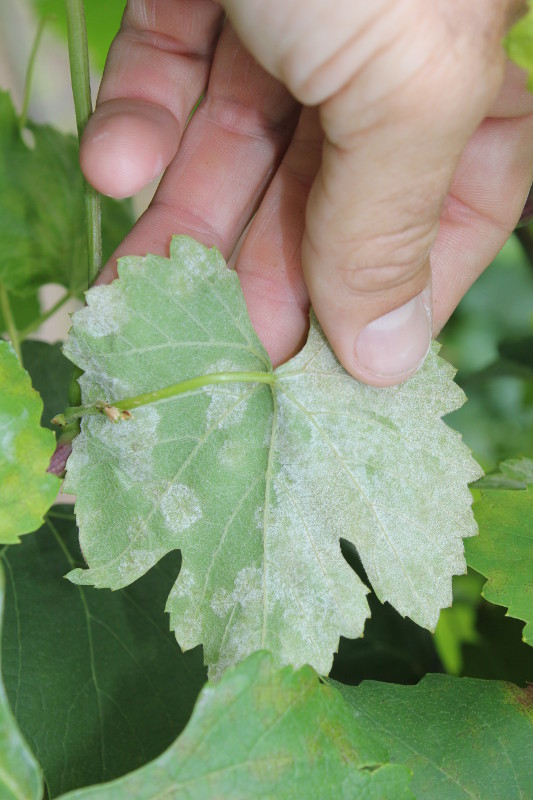downy: (250, 432, 326, 656), (387, 431, 452, 595), (331, 434, 383, 533), (91, 420, 168, 477), (280, 371, 348, 430), (354, 388, 441, 429), (143, 483, 212, 532), (85, 345, 137, 398), (203, 385, 264, 428), (82, 290, 138, 331), (173, 255, 221, 299), (212, 570, 249, 625), (332, 574, 359, 634), (217, 627, 248, 661), (115, 548, 155, 571), (177, 566, 200, 605)
